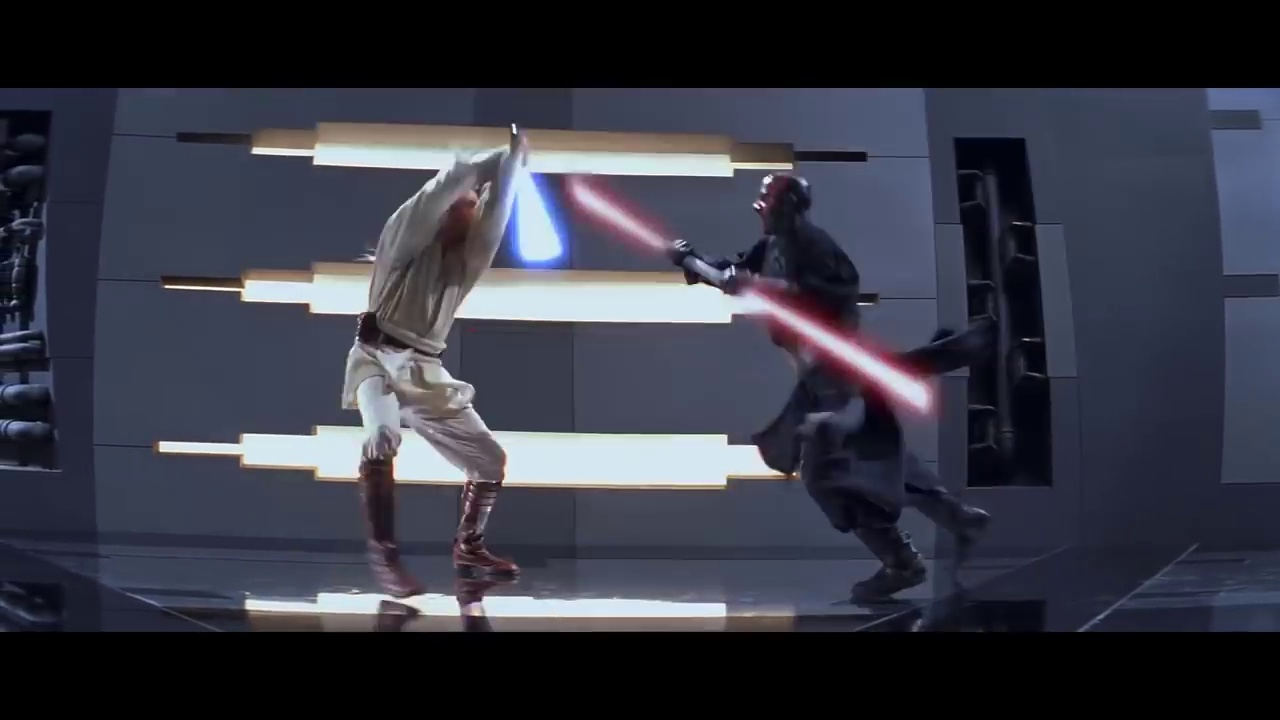lightsaber: (712, 270, 936, 411), (561, 172, 709, 271), (502, 127, 563, 275)
